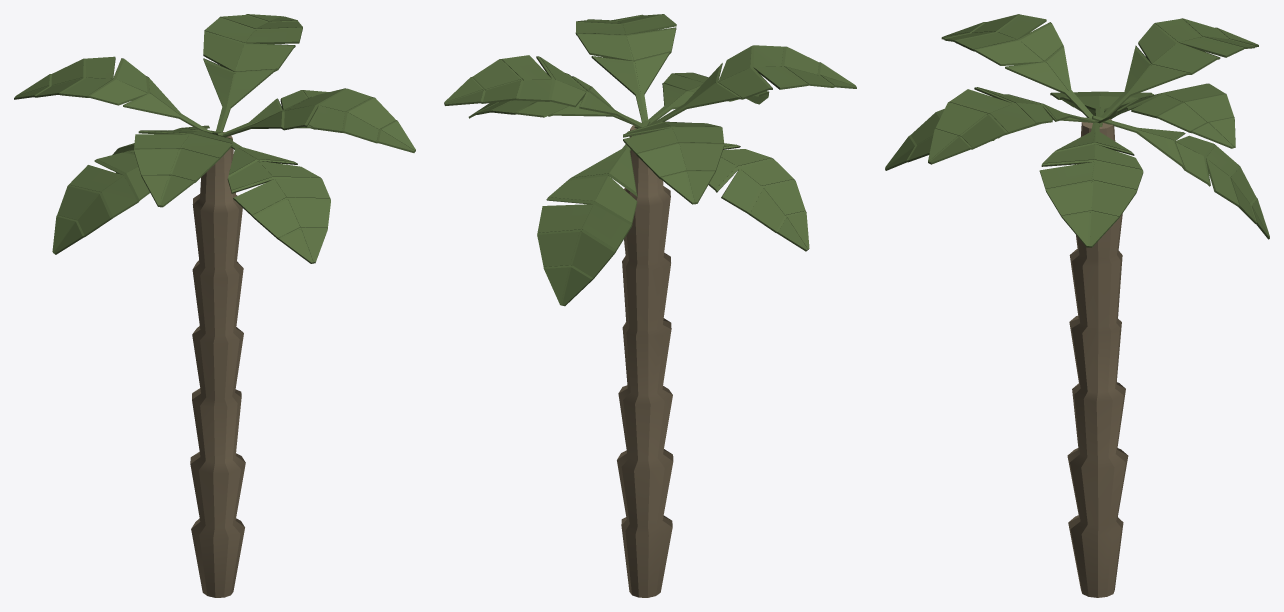
File: GameJam_Palme.fbx
3 renders of one model, left to right at view 1: azimuth 30°, elevation 25°; view 2: azimuth 150°, elevation 25°; view 3: azimuth 270°, elevation 25°, orthographic. The views are drawn at different scales.
Parts seen in each view (by area): view 1: PalmeShape; view 2: PalmeShape; view 3: PalmeShape.
Boxes of the visible parts, bbox=[...] form: PalmeShape: bbox=[14, 14, 415, 597]; PalmeShape: bbox=[444, 14, 856, 597]; PalmeShape: bbox=[885, 14, 1269, 597].
Bounding box in the file's own units: 4.05 × 5.9 × 3.87.
